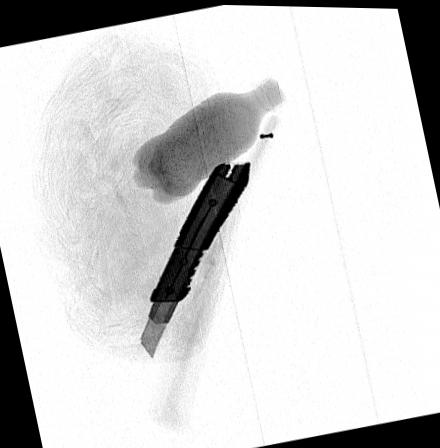Knife: (139, 158, 251, 357)
